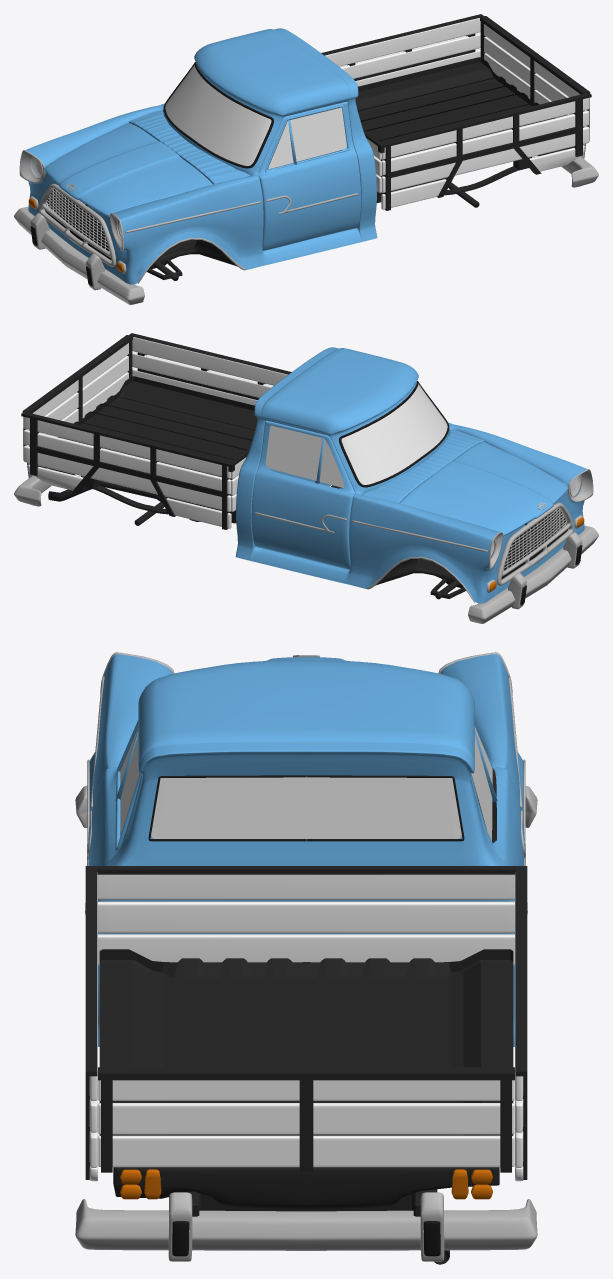
The model's file is Rastrojero05.glb.
The picture shows the model from 3 angles, top to bottom: view 1: azimuth 30°, elevation 25°; view 2: azimuth 150°, elevation 25°; view 3: azimuth 270°, elevation 25°; orthographic projection. The views are drawn at different scales.
Parts seen in each view (by area): view 1: Pintura, Chapa, Madera, Metal, Vidrio, Goma; view 2: Pintura, Chapa, Madera, Metal, Vidrio, Goma; view 3: Chapa, Madera, Pintura, Metal, Vidrio, Goma, LucesReversa.
Boxes of the visible parts, left/top/right/bottom form: Pintura: left=25, top=28, right=377, bottom=284; Chapa: left=45, top=14, right=591, bottom=280; Madera: left=325, top=18, right=589, bottom=209; Metal: left=14, top=143, right=598, bottom=304; Vidrio: left=165, top=65, right=346, bottom=168; Goma: left=30, top=62, right=585, bottom=286; Pintura: left=235, top=347, right=587, bottom=603; Chapa: left=21, top=333, right=567, bottom=599; Madera: left=23, top=337, right=287, bottom=528; Metal: left=14, top=462, right=598, bottom=623; Vidrio: left=265, top=384, right=447, bottom=487; Goma: left=27, top=381, right=582, bottom=605; Chapa: left=85, top=769, right=527, bottom=1264; Madera: left=89, top=872, right=523, bottom=1181; Pintura: left=87, top=654, right=525, bottom=1046; Metal: left=75, top=652, right=537, bottom=1261; Vidrio: left=120, top=727, right=492, bottom=840; Goma: left=148, top=775, right=464, bottom=1256; LucesReversa: left=144, top=1169, right=468, bottom=1199.
Size of the model in its own units: 4.64 by 1.44 by 1.88.
